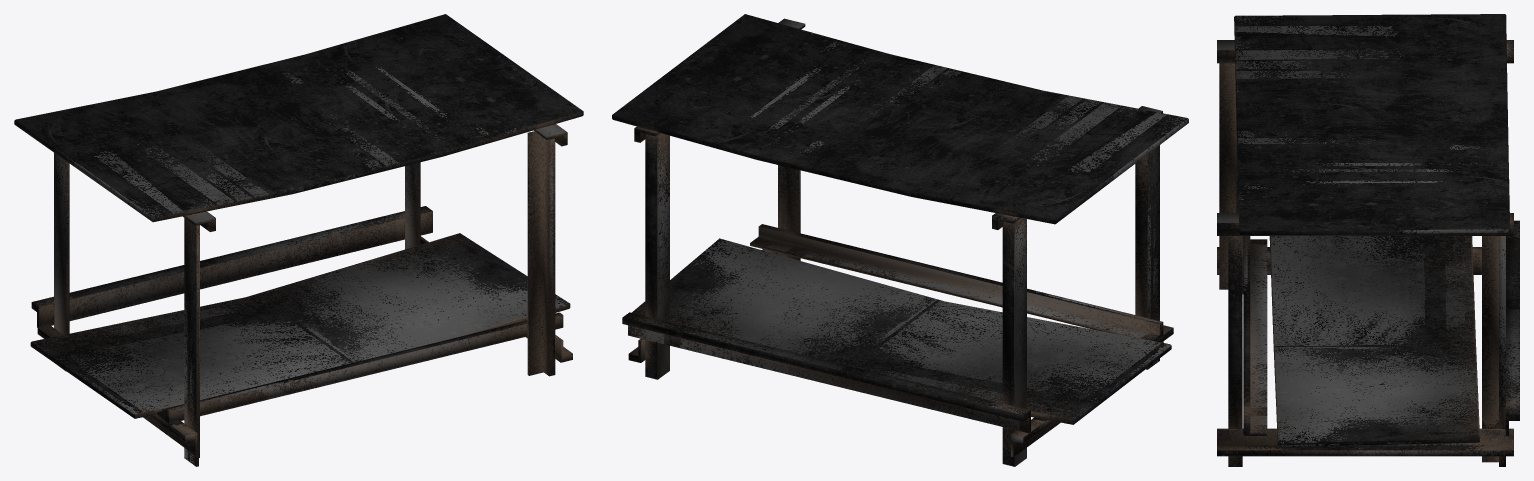
File: rack_1.fbx
3 views of the same model, side by side, from view 1: azimuth 30°, elevation 25°; view 2: azimuth 150°, elevation 25°; view 3: azimuth 270°, elevation 25° (orthographic).
Visible parts, largest first — view 1: rack_1; view 2: rack_1; view 3: rack_1.
Part boxes in pixels (x1,y1,x2,y2): rack_1: (14, 14, 583, 466); rack_1: (612, 14, 1188, 466); rack_1: (1217, 14, 1519, 466).
Size of the model in its own units: 452 by 246 by 265.
